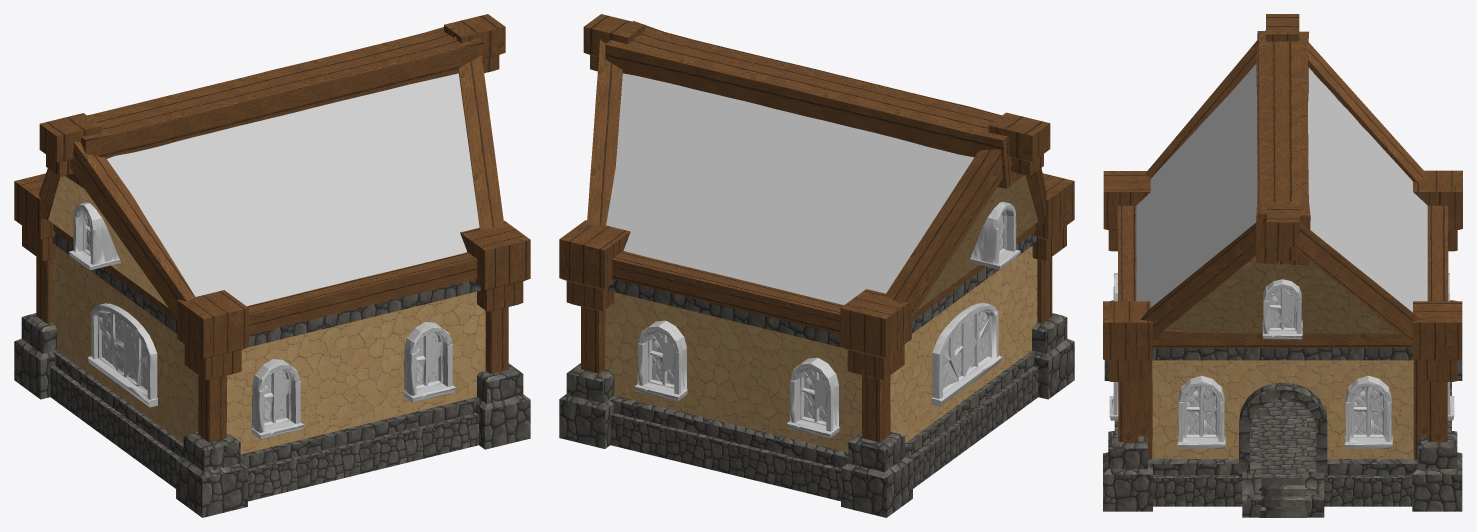
File: HouseTest.fbx
3 renders of one model, left to right at view 1: azimuth 30°, elevation 25°; view 2: azimuth 150°, elevation 25°; view 3: azimuth 270°, elevation 25°, orthographic. The views are drawn at different scales.
Visible parts, largest first — view 1: Plane, ClayWall.001, WoodenBeam.001, StoneFoundation, ClayWall.002, WoodenBeam.004, WoodenBeam.011, StoneFoundationTrim, WoodenSupportFoundation.004, StonePillarFoundation.003, mesh_node.006, WoodenSupportFoundation.002 (+16 smaller); view 2: Plane.001, WoodenBeam.001, ClayWall.004, StoneFoundation, ClayWall.002, WoodenBeam.003, StoneFoundationTrim, WoodenBeam.010, WoodenSupportFoundation.005, StonePillarFoundation.002, mesh_node.006, WoodenSupportFoundation.003 (+16 smaller); view 3: Plane, Plane.001, WoodenWall.004, StoneFoundation, WoodenBeam.001, ClayWall.006, WoodenSupportFoundation.003, WoodenBeam, WoodenBeam.013, WoodenSupportFoundation.002, WoodenBeam.009, StonePillarFoundation.001 (+20 smaller).
Part boxes in pixels (left/top/right/bottom): Plane: left=107, top=73, right=479, bottom=306; ClayWall.001: left=226, top=291, right=485, bottom=454; WoodenBeam.001: left=65, top=27, right=484, bottom=188; StoneFoundation: left=50, top=366, right=478, bottom=501; ClayWall.002: left=51, top=246, right=198, bottom=442; WoodenBeam.004: left=247, top=252, right=477, bottom=334; WoodenBeam.011: left=70, top=141, right=194, bottom=319; StoneFoundationTrim: left=53, top=350, right=479, bottom=468; WoodenSupportFoundation.004: left=177, top=290, right=248, bottom=380; StonePillarFoundation.003: left=176, top=431, right=247, bottom=517; mesh_node.006: left=88, top=303, right=157, bottom=407; WoodenSupportFoundation.002: left=460, top=220, right=530, bottom=311; Plane.001: left=606, top=73, right=974, bottom=304; WoodenBeam.001: left=605, top=21, right=1023, bottom=188; ClayWall.004: left=605, top=292, right=861, bottom=452; StoneFoundation: left=610, top=366, right=1038, bottom=501; ClayWall.002: left=890, top=246, right=1037, bottom=442; WoodenBeam.003: left=612, top=251, right=843, bottom=334; StoneFoundationTrim: left=609, top=350, right=1035, bottom=468; WoodenBeam.010: left=885, top=137, right=1011, bottom=317; WoodenSupportFoundation.005: left=840, top=289, right=911, bottom=380; StonePillarFoundation.002: left=841, top=431, right=912, bottom=517; mesh_node.006: left=931, top=302, right=1001, bottom=406; WoodenSupportFoundation.003: left=559, top=220, right=630, bottom=311; Plane: left=1136, top=64, right=1257, bottom=307; Plane.001: left=1308, top=67, right=1427, bottom=312; WoodenWall.004: left=1152, top=360, right=1413, bottom=458; StoneFoundation: left=1114, top=382, right=1451, bottom=517; WoodenBeam.001: left=1256, top=31, right=1310, bottom=265; ClayWall.006: left=1163, top=256, right=1400, bottom=334; WoodenSupportFoundation.003: left=1412, top=301, right=1462, bottom=381; WoodenBeam: left=1153, top=331, right=1412, bottom=348; WoodenBeam.013: left=1140, top=217, right=1266, bottom=338; WoodenSupportFoundation.002: left=1103, top=301, right=1152, bottom=381; WoodenBeam.009: left=1296, top=222, right=1420, bottom=342; StonePillarFoundation.001: left=1412, top=431, right=1462, bottom=511.
Size of the model in its own units: 1806 by 1285 by 1318.
